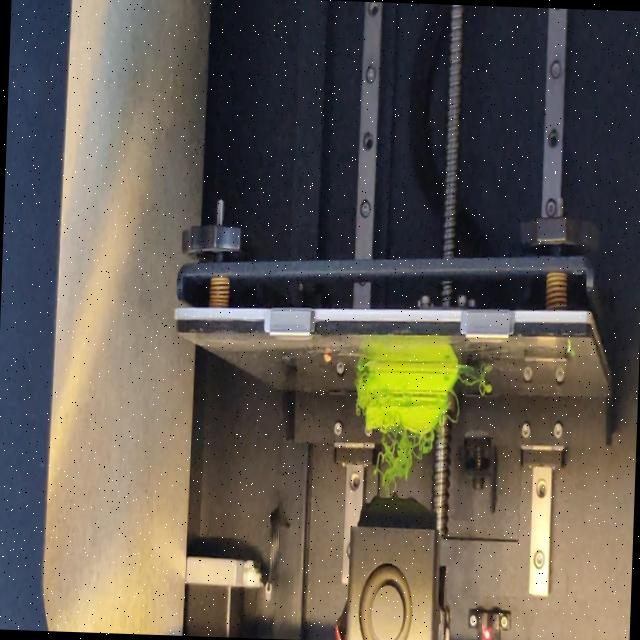spaghetti: (360, 424, 435, 500), (453, 373, 492, 398), (446, 394, 460, 427), (356, 361, 369, 375)
